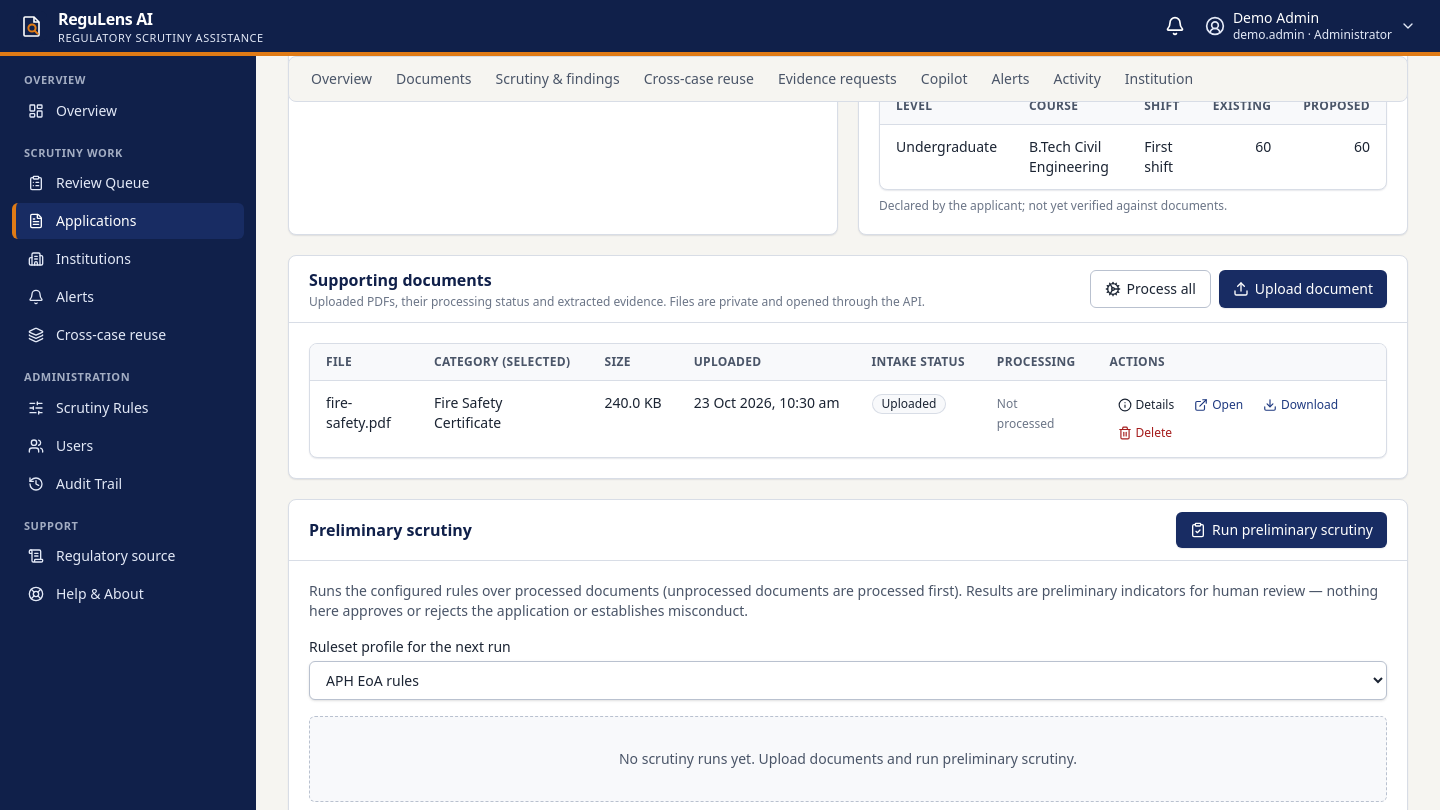
Document processing and evidence › shows failure reasons and category mismatches honestly
(page scrolled)
Click the button with aria-label "Details for fire-safety.pdf". click: (1146, 405)
box: [1110,393,1182,417]
(page scrolled)
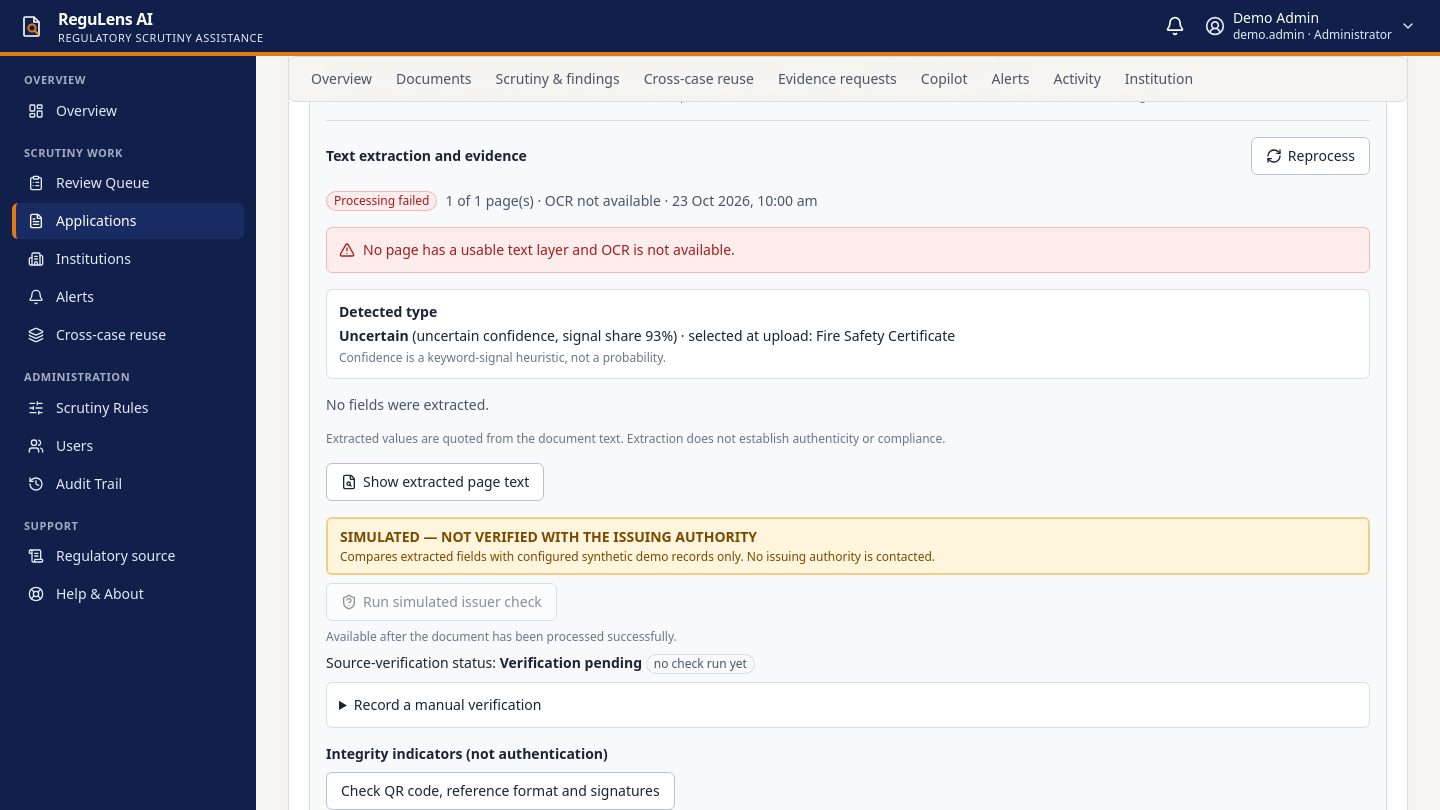
Expected: the text "No page has a usable text layer and OCR is not available." is shown, [363,240,735,260]
Expected: the text "Processing failed" is shown, [326,191,438,211]
Expected: the text "Uncertain" is shown, [339,326,409,345]
